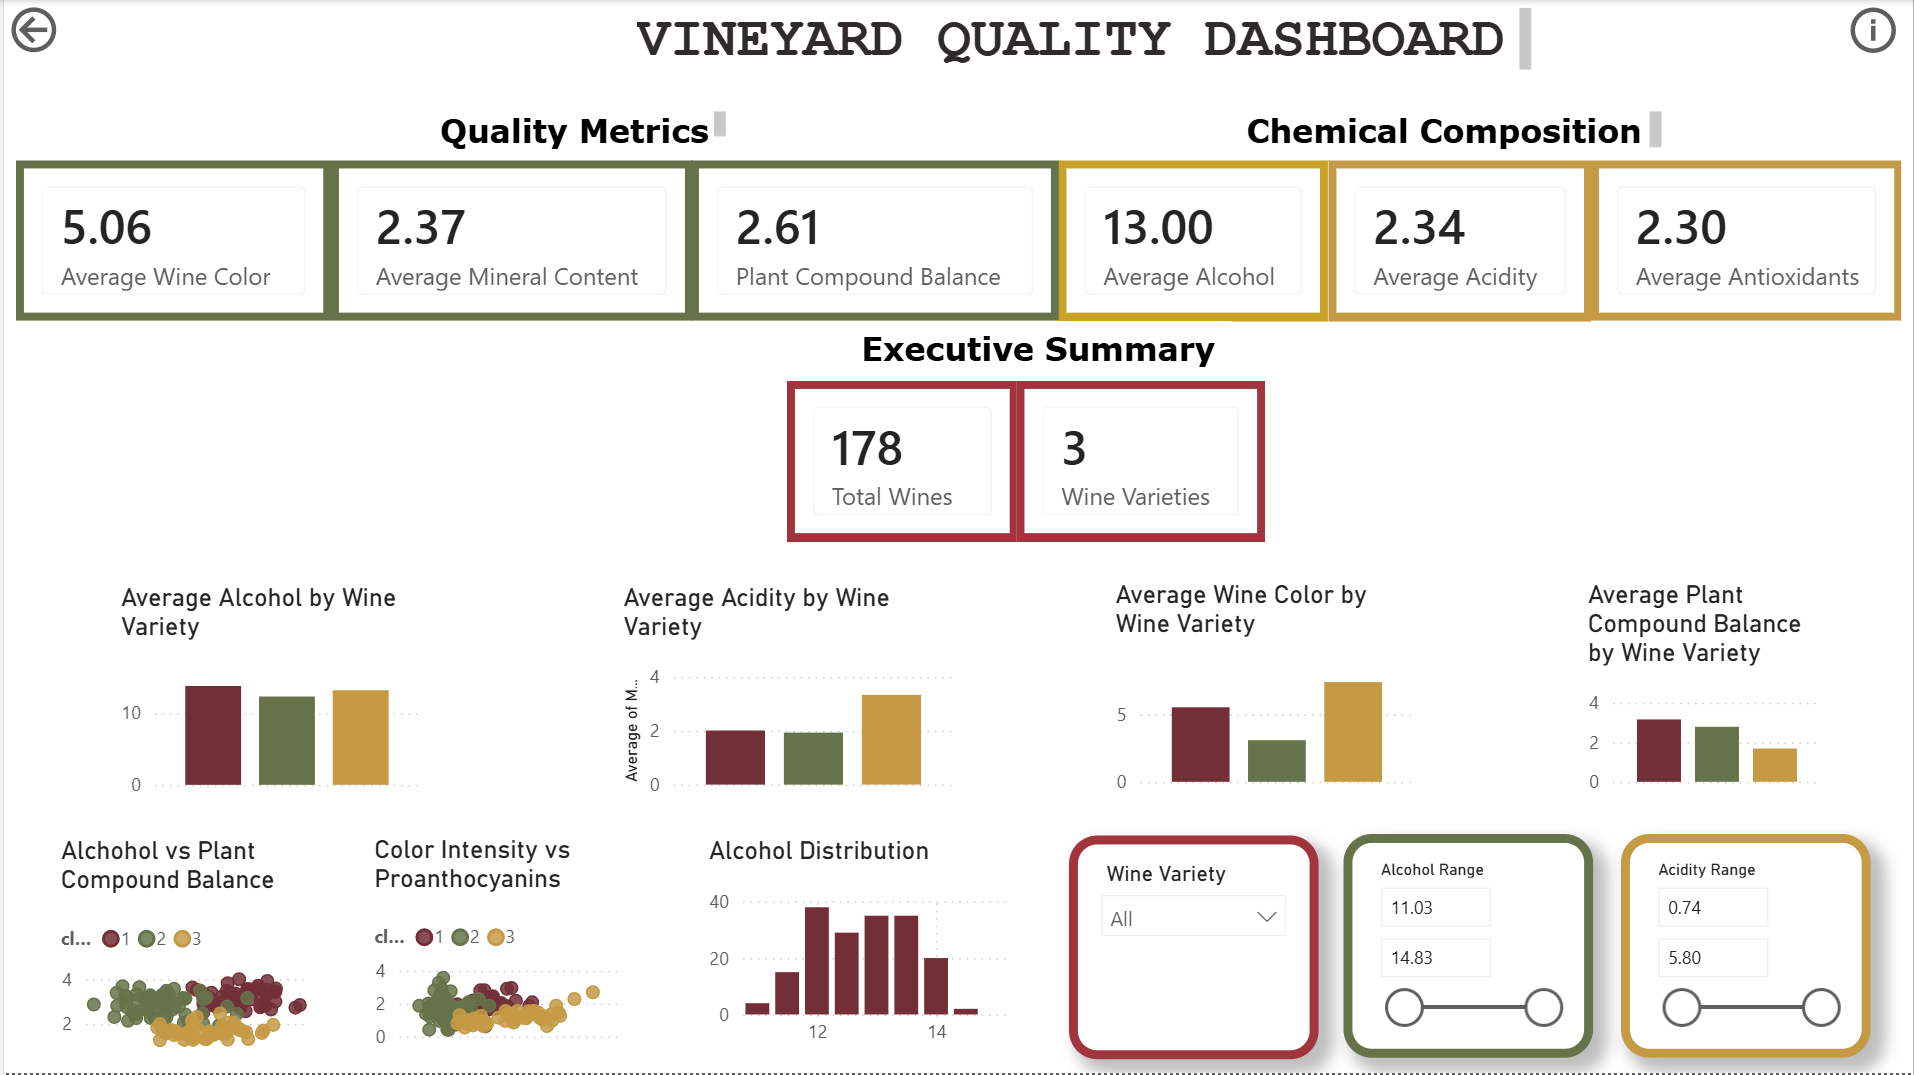

This screenshot's page, from the dashboard's own definition file:
{"tool":"powerbi","page":{"name":"Executive Dashboard","canvas":[1280,720],"ordinal":0},"visuals":[{"type":"cardVisual","fields":{"Data":["CountNonNull(Wine dataset.class)"]},"box":[525,255.5,154.1,107.8],"z":0},{"type":"cardVisual","fields":{"Data":["Count(Wine dataset.class)"]},"box":[679.1,255.5,166.9,107.8],"z":1000},{"type":"cardVisual","fields":{"Data":["Avg(Wine dataset.Alcohol)"]},"box":[707.1,107.6,180.8,107.8],"z":2000},{"type":"cardVisual","fields":{"Data":["Avg(Wine dataset.Malic acid)"]},"box":[888.1,107.6,176.1,107.8],"z":3000},{"type":"cardVisual","fields":{"Data":["Avg(Wine dataset.Ash)"]},"box":[219.3,107.6,242.4,107.6],"z":4000},{"type":"cardVisual","fields":{"Data":["Avg(Wine dataset.Total phenols)"]},"box":[1064.1,107.6,208.2,107.6],"z":5000},{"type":"cardVisual","fields":{"Data":["Avg(Wine dataset.Color intensity)"]},"box":[8,107.6,211.2,107.6],"z":6000},{"type":"cardVisual","fields":{"Data":["Avg(Wine dataset.OD280/OD315 of diluted wines)"]},"box":[460.6,107.6,246.4,107.6],"z":7000},{"type":"textbox","box":[564.2,215.2,258.5,38.2],"z":8000},{"type":"textbox","box":[822.7,69.4,293.7,35.2],"z":9000},{"type":"textbox","box":[284.6,69.4,204.2,35.2],"z":10000},{"type":"textbox","box":[419.4,0,609.5,52.3],"z":11000},{"type":"clusteredColumnChart","title":"Average Alcohol by Wine Variety","fields":{"Category":["Wine dataset.class"],"Y":["Avg(Wine dataset.Alcohol)"]},"box":[73.3,390,211,150],"z":12000},{"type":"clusteredColumnChart","title":"Average Acidity by Wine Variety","fields":{"Category":["Wine dataset.class"],"Y":["Avg(Wine dataset.Malic acid)"]},"box":[410,390,232.3,149.9],"z":13000},{"type":"clusteredColumnChart","title":"Average Wine Color by Wine Variety","fields":{"Category":["Wine dataset.class"],"Y":["Avg(Wine dataset.Color intensity)"]},"box":[740,387.8,211,150],"z":14000},{"type":"clusteredColumnChart","title":"Average Plant Compound Balance by Wine Variety","fields":{"Category":["Wine dataset.class"],"Y":["Avg(Wine dataset.OD280/OD315 of diluted wines)"]},"box":[1056.7,387.8,167,150],"z":15000},{"type":"scatterChart","title":"Alchohol vs Plant Compound Balance","fields":{"Series":["Wine dataset.class"],"X":["Wine dataset.Alcohol"],"Y":["Wine dataset.OD280/OD315 of diluted wines"]},"box":[33.3,560,176,150],"z":16000},{"type":"scatterChart","title":"Color Intensity vs Proanthocyanins","fields":{"Series":["Wine dataset.class"],"X":["Wine dataset.Color intensity"],"Y":["Wine dataset.Proanthocyanins"]},"box":[243.3,558.9,176,150],"z":17000},{"type":"actionButton","box":[0,0,100,40],"z":18000},{"type":"clusteredColumnChart","title":"Alcohol Distribution","fields":{"Category":["Wine dataset.Alcohol (bins)"],"Y":["CountNonNull(Wine dataset.Alcohol)"]},"box":[467.8,560,211,150],"z":19000},{"type":"slicer","fields":{"Values":["Wine dataset.class"]},"box":[714.4,560,167,150],"z":20000},{"type":"slicer","fields":{"Values":["Wine dataset.Alcohol"]},"box":[897.8,558.9,167,150],"z":21000},{"type":"slicer","fields":{"Values":["Wine dataset.Malic acid"]},"box":[1084.4,558.9,167,150],"z":22000},{"type":"actionButton","box":[1233.1,0,47.5,40.6],"z":22001}]}

Visuals, with their boxes in screenshot pixels (x1, y1, x2, y2), scaled from the page's 1280x720 canvas onto the 1914x1075 screenshot:
cardVisual - CountNonNull(Wine dataset.class): bbox=[785, 381, 1015, 542]
cardVisual - Count(Wine dataset.class): bbox=[1015, 381, 1265, 542]
cardVisual - Avg(Wine dataset.Alcohol): bbox=[1057, 161, 1328, 322]
cardVisual - Avg(Wine dataset.Malic acid): bbox=[1328, 161, 1591, 322]
cardVisual - Avg(Wine dataset.Ash): bbox=[328, 161, 690, 321]
cardVisual - Avg(Wine dataset.Total phenols): bbox=[1591, 161, 1902, 321]
cardVisual - Avg(Wine dataset.Color intensity): bbox=[12, 161, 328, 321]
cardVisual - Avg(Wine dataset.OD280/OD315 of diluted wines): bbox=[689, 161, 1057, 321]
textbox: bbox=[844, 321, 1230, 378]
textbox: bbox=[1230, 104, 1669, 156]
textbox: bbox=[426, 104, 731, 156]
textbox: bbox=[627, 0, 1539, 78]
"Average Alcohol by Wine Variety" clusteredColumnChart: bbox=[110, 582, 425, 806]
"Average Acidity by Wine Variety" clusteredColumnChart: bbox=[613, 582, 960, 806]
"Average Wine Color by Wine Variety" clusteredColumnChart: bbox=[1107, 579, 1422, 803]
"Average Plant Compound Balance by Wine Variety" clusteredColumnChart: bbox=[1580, 579, 1830, 803]
"Alchohol vs Plant Compound Balance" scatterChart: bbox=[50, 836, 313, 1060]
"Color Intensity vs Proanthocyanins" scatterChart: bbox=[364, 834, 627, 1058]
actionButton: bbox=[0, 0, 150, 60]
"Alcohol Distribution" clusteredColumnChart: bbox=[700, 836, 1015, 1060]
slicer - Wine dataset.class: bbox=[1068, 836, 1318, 1060]
slicer - Wine dataset.Alcohol: bbox=[1342, 834, 1592, 1058]
slicer - Wine dataset.Malic acid: bbox=[1622, 834, 1871, 1058]
actionButton: bbox=[1844, 0, 1913, 61]
